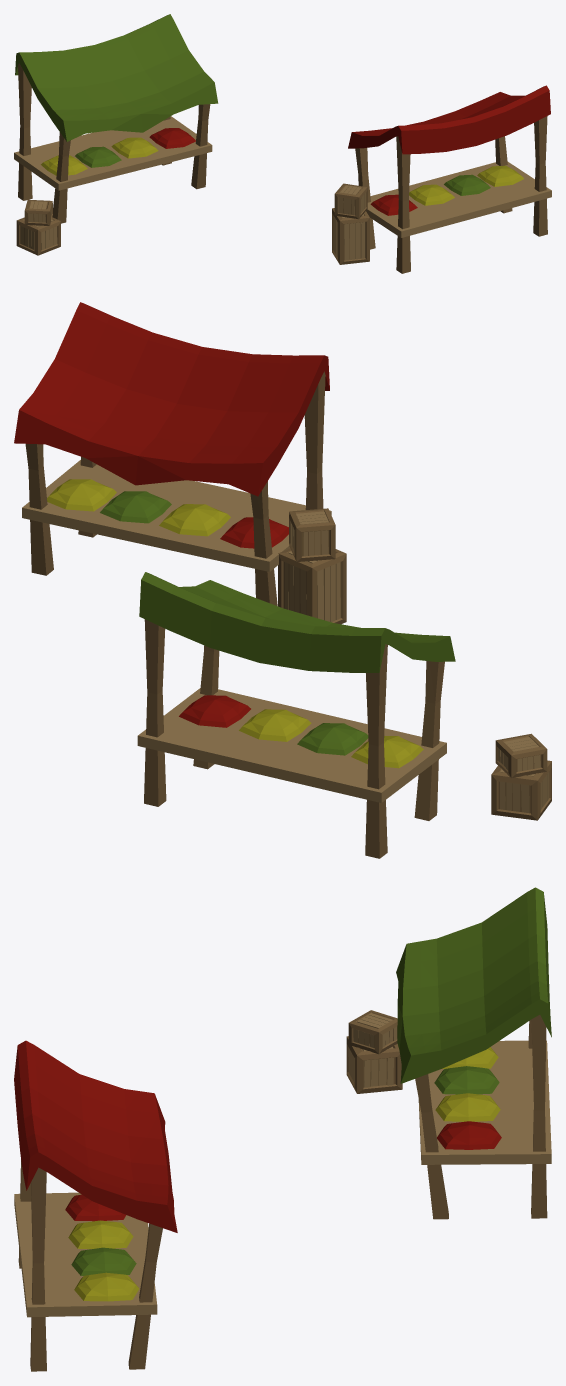
Rendered from Market_Stalls.glb.
3 renders of one model, top to bottom at view 1: azimuth 30°, elevation 25°; view 2: azimuth 150°, elevation 25°; view 3: azimuth 270°, elevation 25°, orthographic. The views are drawn at different scales.
Parts seen in each view (by area): view 1: Market_Stalls_Merged_Simplified; view 2: Market_Stalls_Merged_Simplified; view 3: Market_Stalls_Merged_Simplified.
Boxes of the visible parts, x1=… form: Market_Stalls_Merged_Simplified: x1=14, y1=14, x2=551, y2=273; Market_Stalls_Merged_Simplified: x1=14, y1=302, x2=551, y2=858; Market_Stalls_Merged_Simplified: x1=14, y1=887, x2=551, y2=1371.
Size of the model in its own units: 1.62 by 0.5515 by 1.22.
